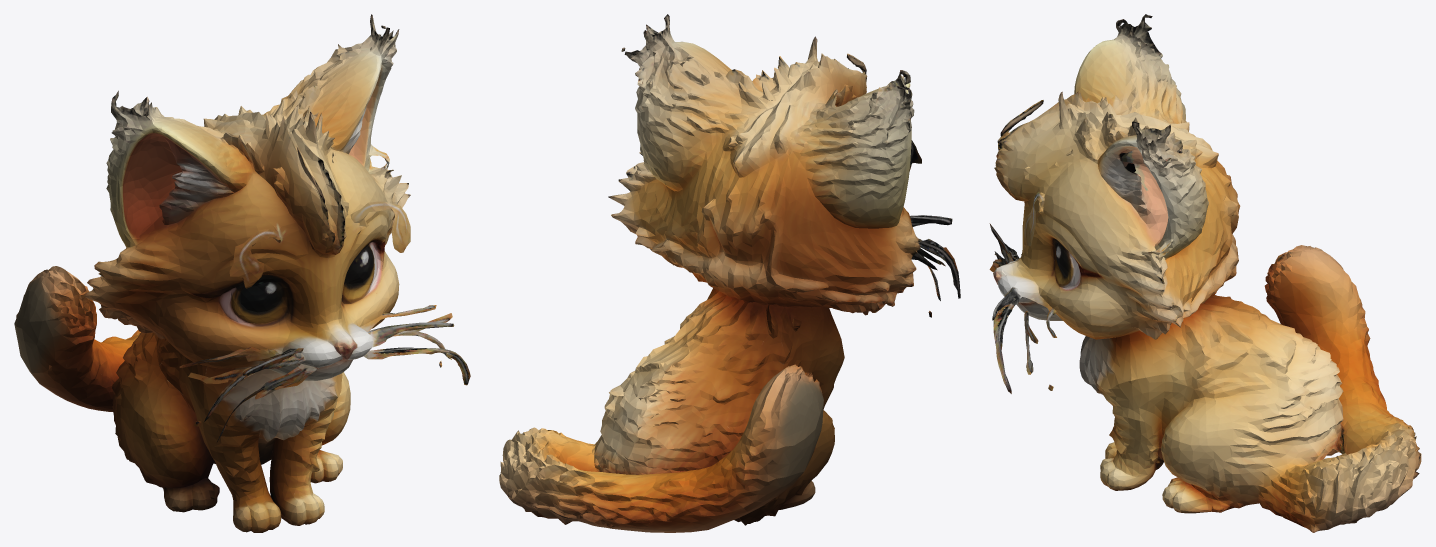
Rendered from cat_05.glb.
3 renders of one model, left to right at view 1: azimuth 30°, elevation 25°; view 2: azimuth 150°, elevation 25°; view 3: azimuth 270°, elevation 25°, orthographic. The views are drawn at different scales.
Visible parts, largest first — view 1: world; view 2: world; view 3: world.
Boxes of the visible parts, x1,y1,x2,y2 form: world: [14, 14, 470, 532]; world: [499, 14, 960, 532]; world: [989, 14, 1421, 532].
Bounding box in the file's own units: 0.7748 × 0.9949 × 0.9648.
1 material, 1 textured.
